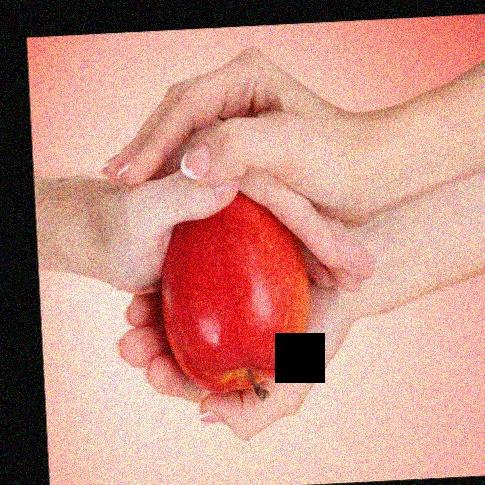red apple: (161, 189, 314, 393)
